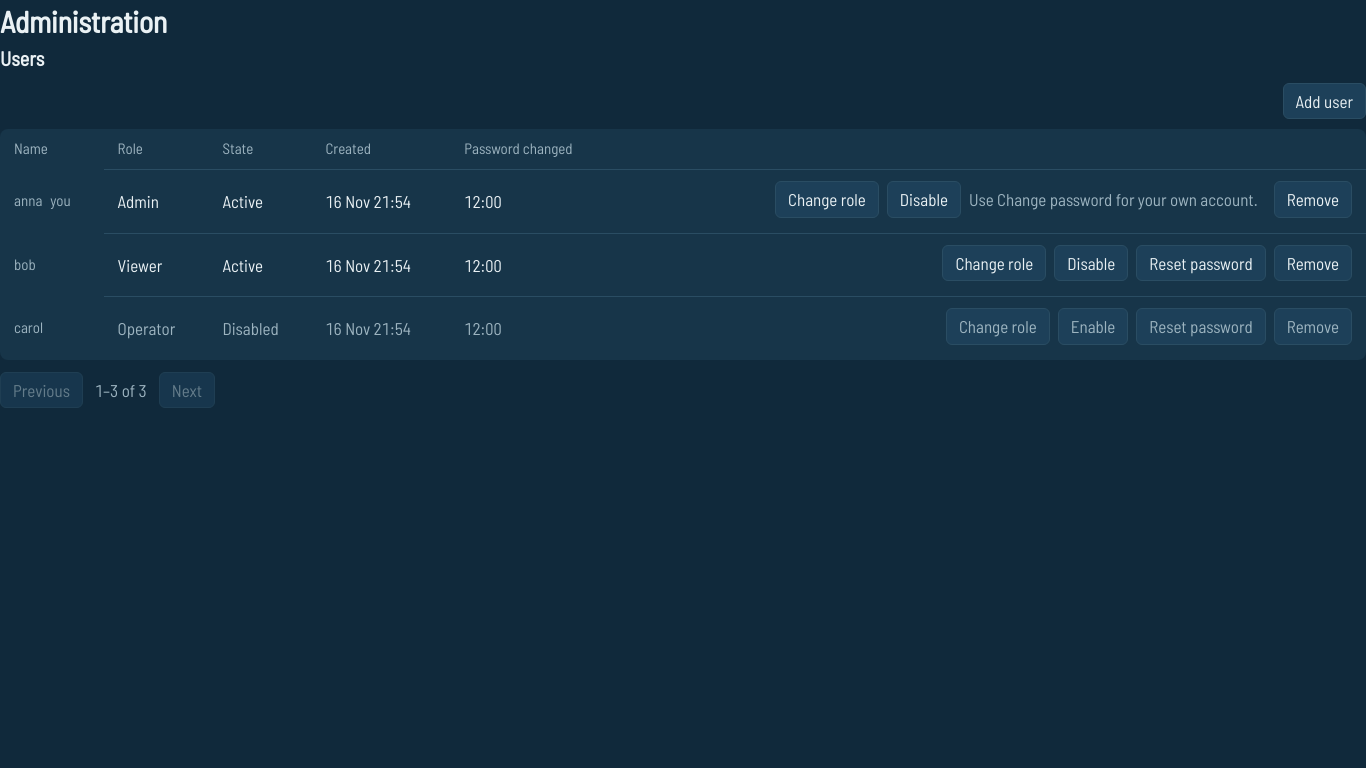
Test: AdministrationPage › still shows the generated password when the reload after creating fails
Click the button "Add user": (1324, 101) x1=1283 y1=82 x2=1365 y2=119
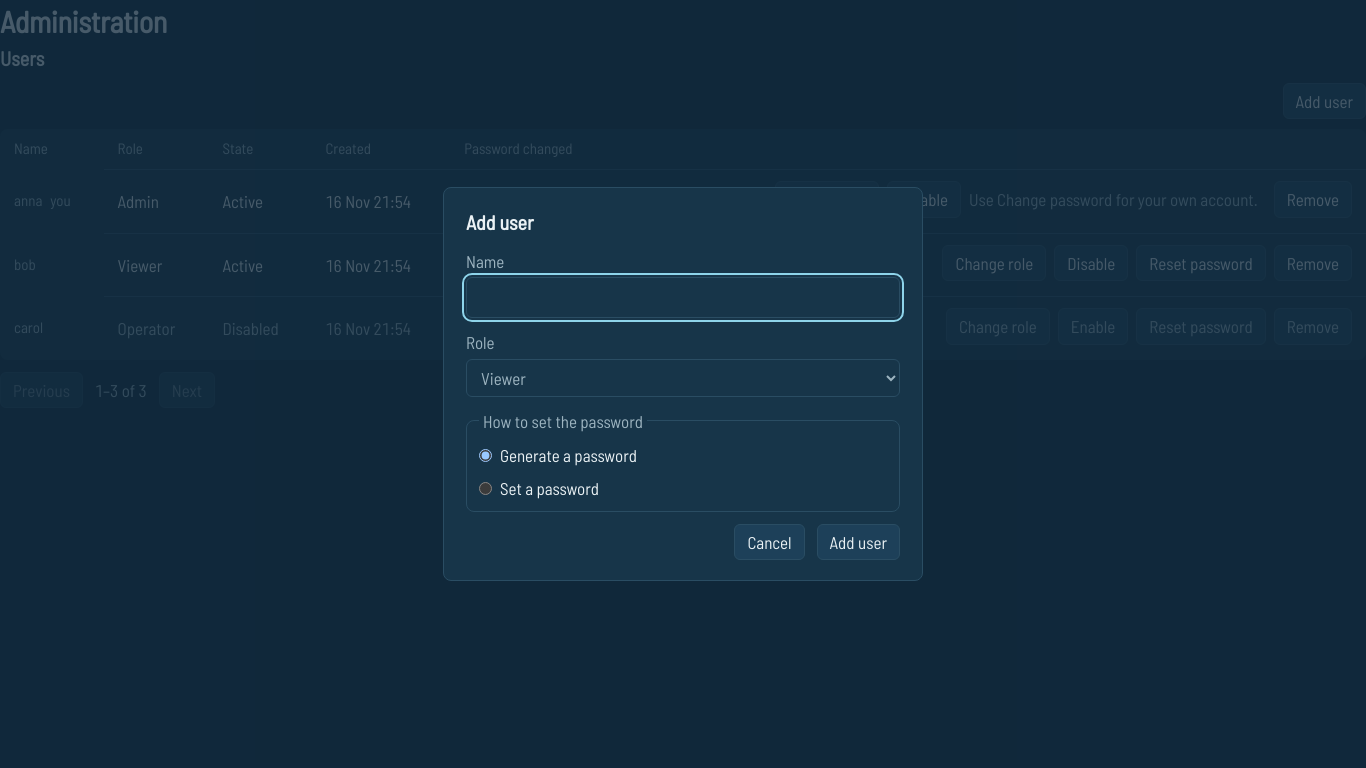
In the field labelled "Name": (683, 298) x1=466 y1=277 x2=900 y2=318, type "dora"
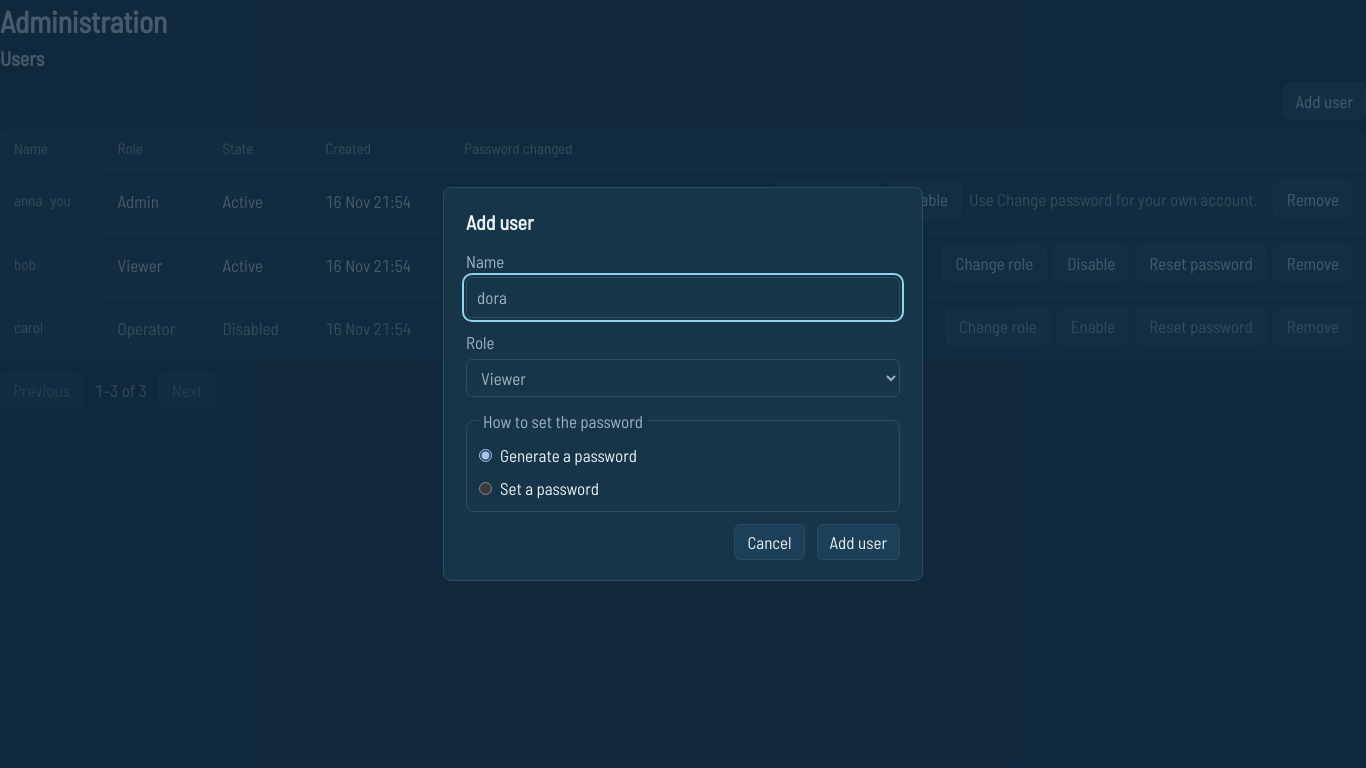
Click the button "Add user": (858, 542) x1=817 y1=524 x2=900 y2=560
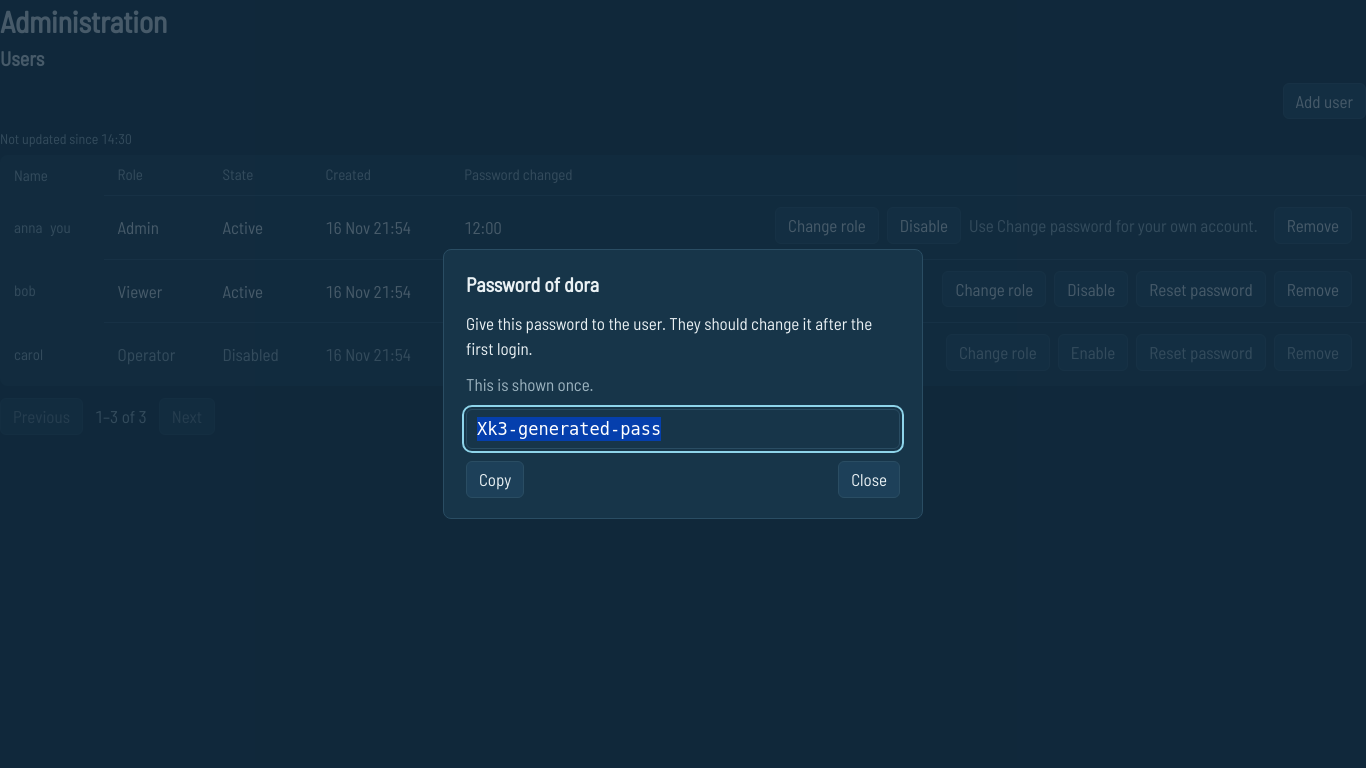
Result: the field holds "Xk3-generated-pass" at x1=466 y1=409 x2=900 y2=449
